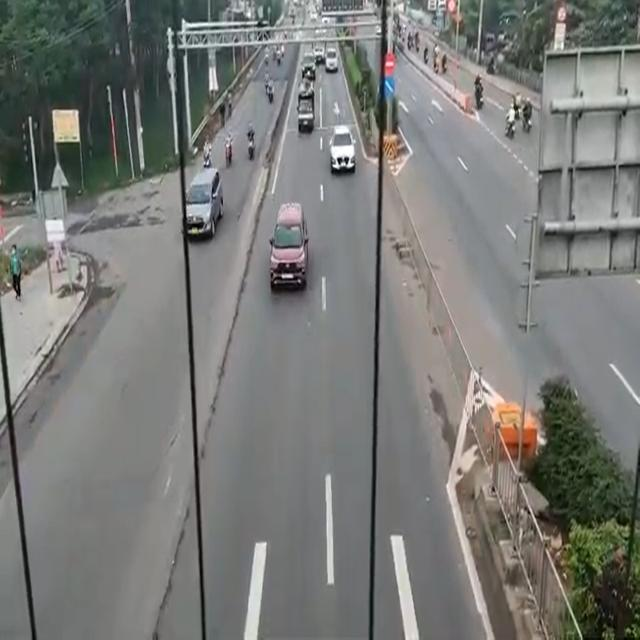car: (270, 200, 312, 301), (188, 168, 219, 244), (326, 129, 356, 183)
motor: (222, 135, 236, 175), (246, 121, 259, 164)
truck: (296, 82, 316, 134)
